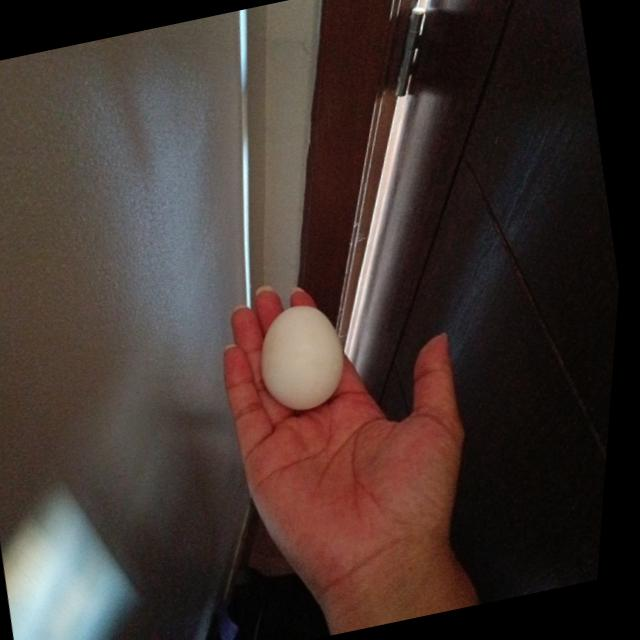egg: (254, 296, 359, 414)
